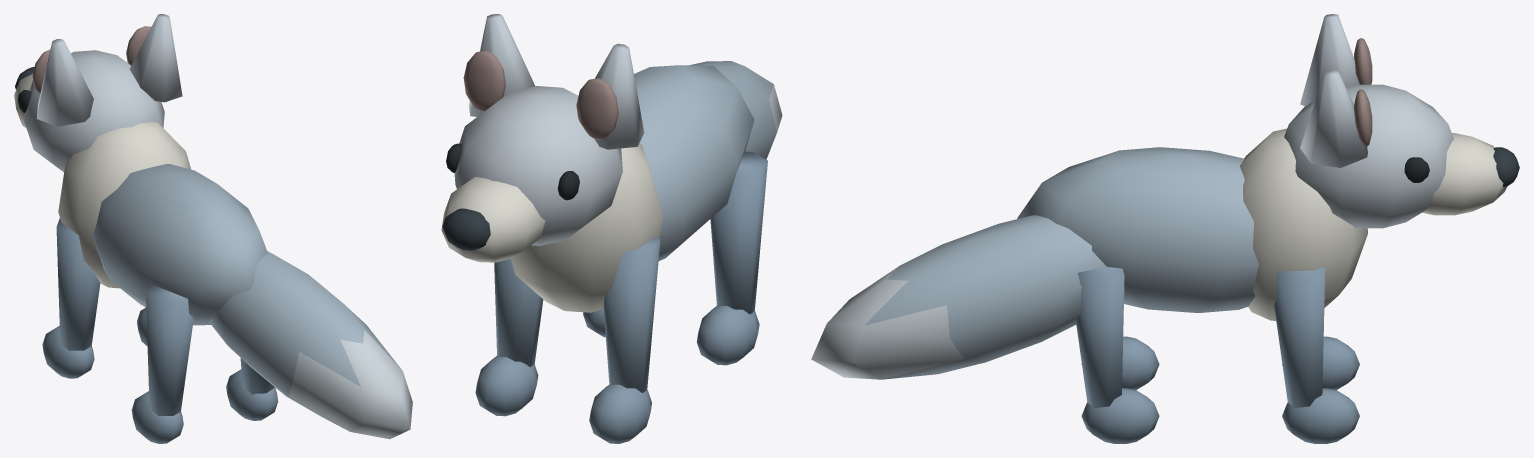
The model's file is arctic-fox-medium.glb.
3 views of the same model, side by side, from view 1: azimuth 30°, elevation 25°; view 2: azimuth 150°, elevation 25°; view 3: azimuth 270°, elevation 25° (orthographic). The views are drawn at different scales.
Visible parts, largest first — view 1: arctic-fox-medium; view 2: arctic-fox-medium; view 3: arctic-fox-medium.
Boxes of the visible parts, <box> form: arctic-fox-medium: <box>14,14,412,443</box>; arctic-fox-medium: <box>441,14,782,443</box>; arctic-fox-medium: <box>811,14,1519,443</box>.
Bounding box in the file's own units: 0.3834 × 0.7581 × 1.31.
